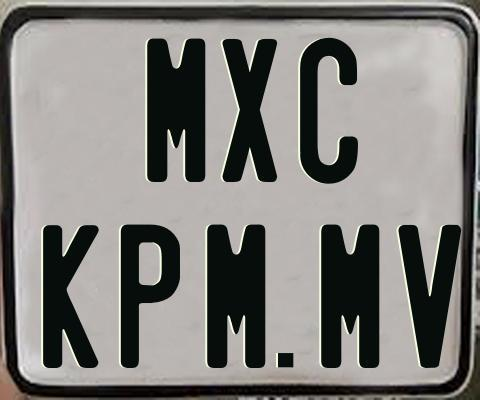C: (300, 38, 362, 185)
K: (43, 222, 101, 369)
M: (320, 222, 381, 366), (146, 35, 205, 179), (206, 221, 264, 367)
P: (118, 224, 182, 374)
V: (396, 223, 460, 366)
X: (221, 38, 280, 187)
